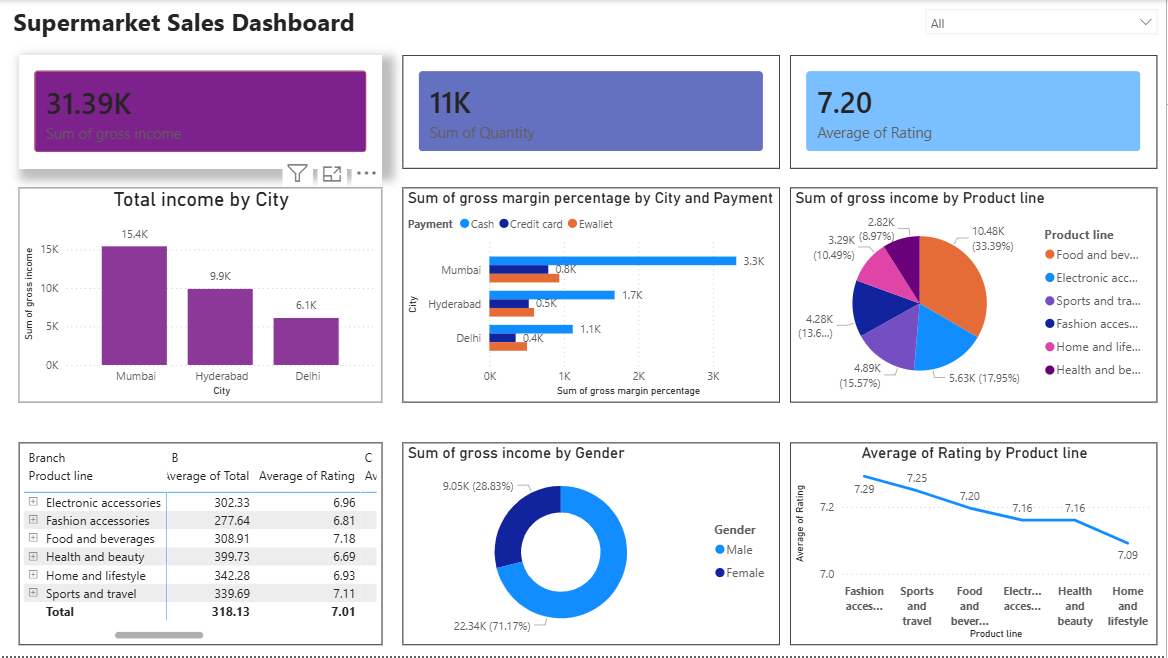

Layout of this report page (visuals, bound fields, positions):
{"tool":"powerbi","page":{"name":"Page 1","canvas":[1280,720],"ordinal":0},"visuals":[{"type":"textbox","box":[9.6,0,448.7,60.4],"z":0},{"type":"cardVisual","fields":{"Data":["Sum(Sheet1.gross income)"]},"box":[20.6,60.4,399.3,124.9],"z":1000},{"type":"cardVisual","fields":{"Data":["Sum(Sheet1.Quantity)"]},"box":[441.9,60.4,414.4,124.9],"z":2000},{"type":"cardVisual","fields":{"Data":["Avg(Sheet1.Rating)"]},"box":[867.2,60.4,403.4,124.9],"z":3000},{"type":"columnChart","title":"Total income by City","fields":{"Category":["Sheet1.City"],"Y":["Sum(Sheet1.gross income)"]},"box":[20.6,205.8,399.3,236],"z":4000},{"type":"clusteredBarChart","fields":{"Category":["Sheet1.City"],"Y":["Sum(Sheet1.gross margin percentage)"],"Series":["Sheet1.Payment"]},"box":[441.9,205.8,414.4,236],"z":5000},{"type":"lineChart","fields":{"Category":["Sheet1.Product line"],"Y":["Avg(Sheet1.Rating)"]},"box":[867.2,485.8,403.4,222.3],"z":6000},{"type":"pieChart","fields":{"Category":["Sheet1.Product line"],"Y":["Sum(Sheet1.gross income)"]},"box":[867.2,205.8,403.4,236],"z":7000},{"type":"donutChart","fields":{"Y":["Sum(Sheet1.gross income)"],"Category":["Sheet1.Gender"]},"box":[441.9,485.8,414.4,222.3],"z":8000},{"type":"pivotTable","fields":{"Rows":["Sheet1.Product line","Sheet1.City","Sheet1.Gender"],"Columns":["Sheet1.Branch"],"Values":["Avg(Sheet1.Total)","Avg(Sheet1.Rating)"]},"box":[20.6,485.8,399.3,222.3],"z":9000},{"type":"slicer","fields":{"Values":["Sheet1.City","Sheet1.Branch","Sheet1.Product line"]},"box":[1005.8,0,274.4,60.4],"z":10000}]}

Visuals, with their boxes in screenshot pixels (x1, y1, x2, y2), scaled from the page's 1280x720 canvas onto the 1168x658 screenshot:
textbox: 9, 0, 418, 55
cardVisual - Sum(Sheet1.gross income): 19, 55, 383, 169
cardVisual - Sum(Sheet1.Quantity): 403, 55, 781, 169
cardVisual - Avg(Sheet1.Rating): 791, 55, 1159, 169
"Total income by City" columnChart: 19, 188, 383, 404
clusteredBarChart - Sheet1.City x Sum(Sheet1.gross margin percentage): 403, 188, 781, 404
lineChart - Sheet1.Product line x Avg(Sheet1.Rating): 791, 444, 1159, 647
pieChart - Sheet1.Product line x Sum(Sheet1.gross income): 791, 188, 1159, 404
donutChart - Sum(Sheet1.gross income) x Sheet1.Gender: 403, 444, 781, 647
pivotTable - Sheet1.Product line x Sheet1.City: 19, 444, 383, 647
slicer - Sheet1.City x Sheet1.Branch: 918, 0, 1167, 55
